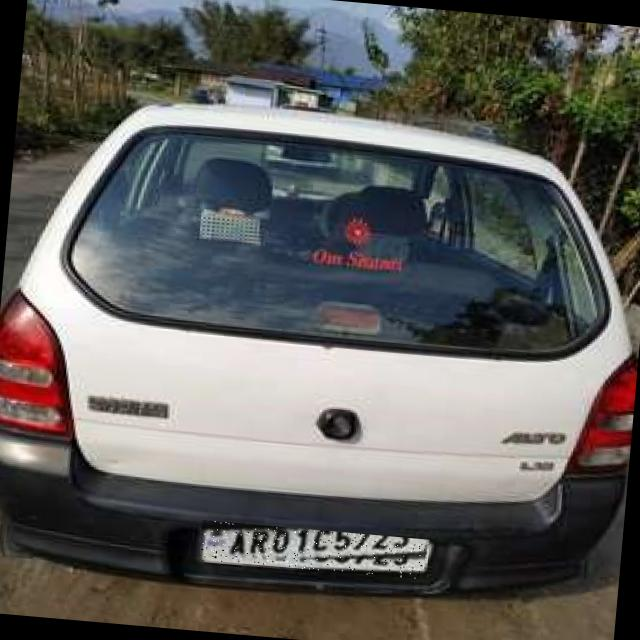Plate: (200, 521, 431, 581)
